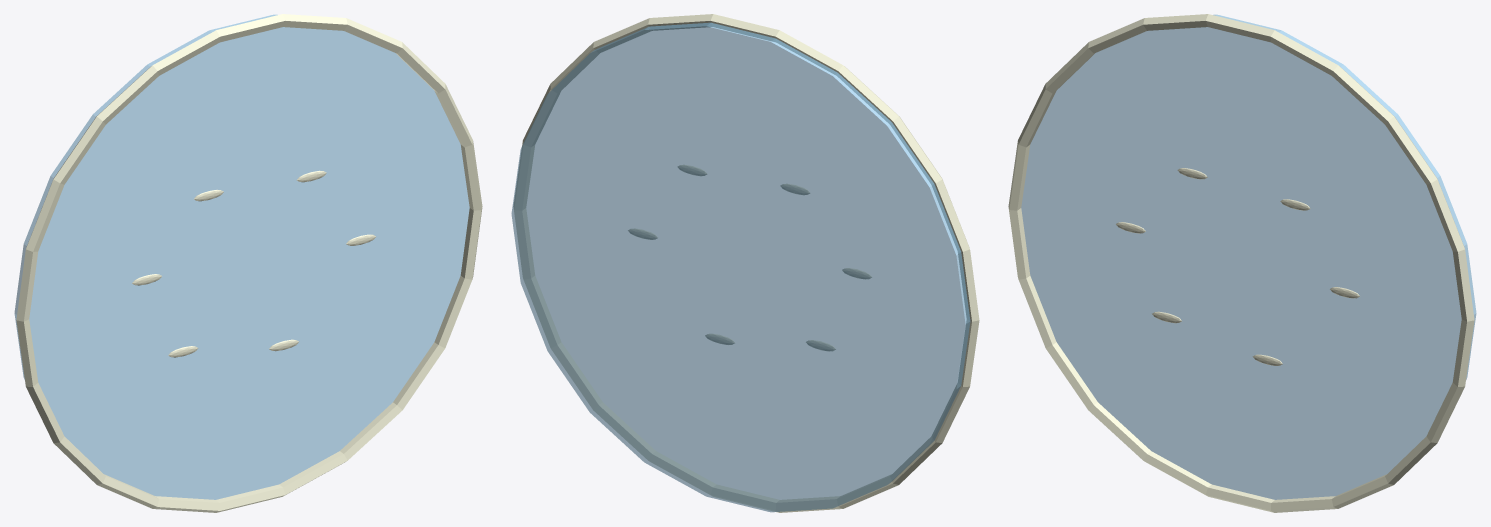
File: 05_event_sky_or_hazard_field.glb
3 views of the same model, side by side, from view 1: azimuth 30°, elevation 25°; view 2: azimuth 150°, elevation 25°; view 3: azimuth 330°, elevation 25° (orthographic).
Visible parts, largest first — view 1: water_surface, water_rim; view 2: water_surface, water_rim; view 3: water_surface, water_rim.
Part boxes in pixels (box(x1,y1,x2,y2)): water_surface: box(14, 14, 469, 499); water_rim: box(16, 14, 482, 512); water_surface: box(511, 22, 970, 512); water_rim: box(513, 14, 979, 512); water_surface: box(1021, 14, 1476, 499); water_rim: box(1008, 14, 1474, 512).
Bounding box in the file's own units: 1.95 × 1.93 × 0.0935.
